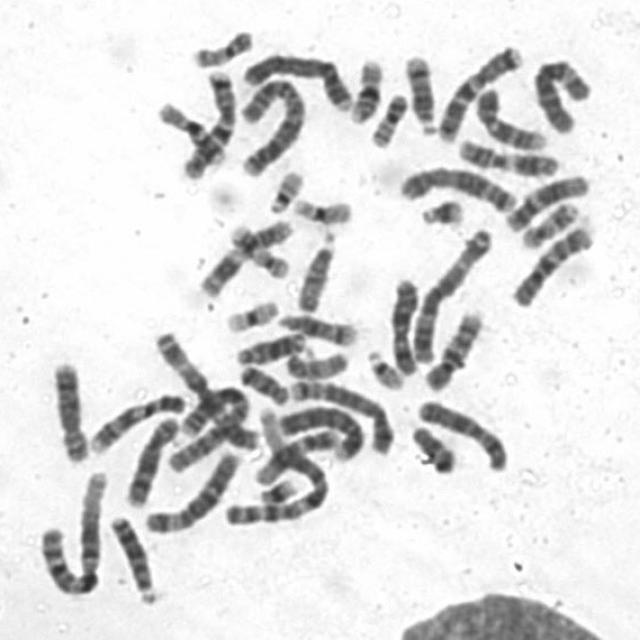A1: (221, 415, 335, 529), (34, 466, 110, 596)
A2: (163, 380, 253, 475), (235, 75, 307, 181)
A3: (151, 326, 260, 453), (407, 224, 494, 364)
B4: (238, 49, 356, 112), (274, 401, 366, 462)
B5: (283, 376, 395, 458), (394, 163, 518, 214)
C10: (505, 220, 596, 310), (421, 306, 486, 395)
C11: (196, 214, 296, 299), (453, 136, 560, 179)
C12: (502, 170, 592, 233), (251, 424, 338, 488)
C6: (140, 447, 242, 536), (529, 56, 594, 135)
C7: (434, 42, 525, 144), (179, 65, 238, 182)
C8: (123, 413, 181, 509), (48, 358, 90, 464)
C9: (86, 390, 186, 455), (474, 86, 551, 152)
D13: (107, 512, 157, 606), (232, 328, 308, 366)
D14: (273, 310, 360, 348), (402, 51, 438, 138)
D15: (292, 236, 338, 312), (281, 347, 350, 380)
E16: (154, 98, 223, 172), (345, 55, 386, 125)
E17: (227, 222, 290, 281), (518, 197, 582, 250)
E18: (408, 422, 457, 474), (236, 361, 290, 407)
F19: (222, 296, 281, 334), (288, 195, 353, 226)
F20: (189, 27, 254, 68), (367, 90, 408, 149)
G21: (415, 195, 466, 228), (253, 474, 302, 506)
G22: (264, 167, 306, 215), (363, 347, 406, 392)
X: (414, 396, 509, 472), (386, 274, 422, 378)
